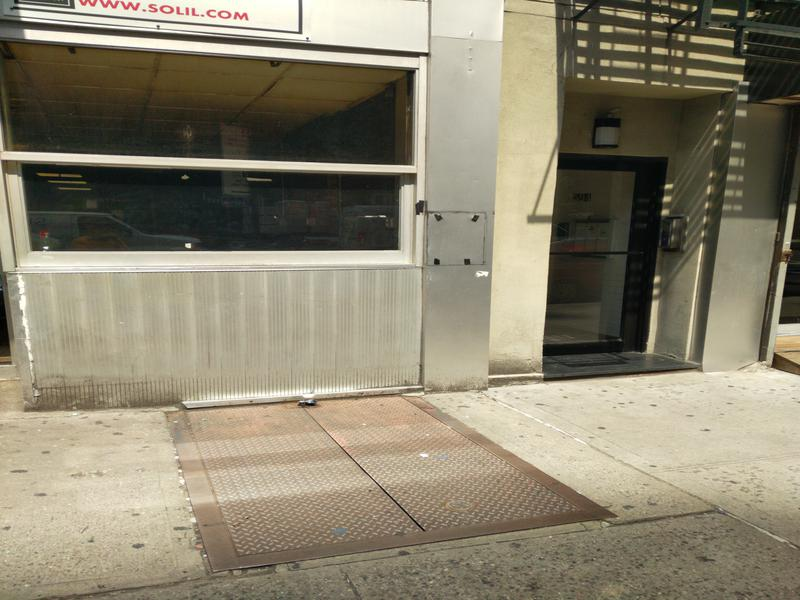door: (545, 148, 667, 358)
